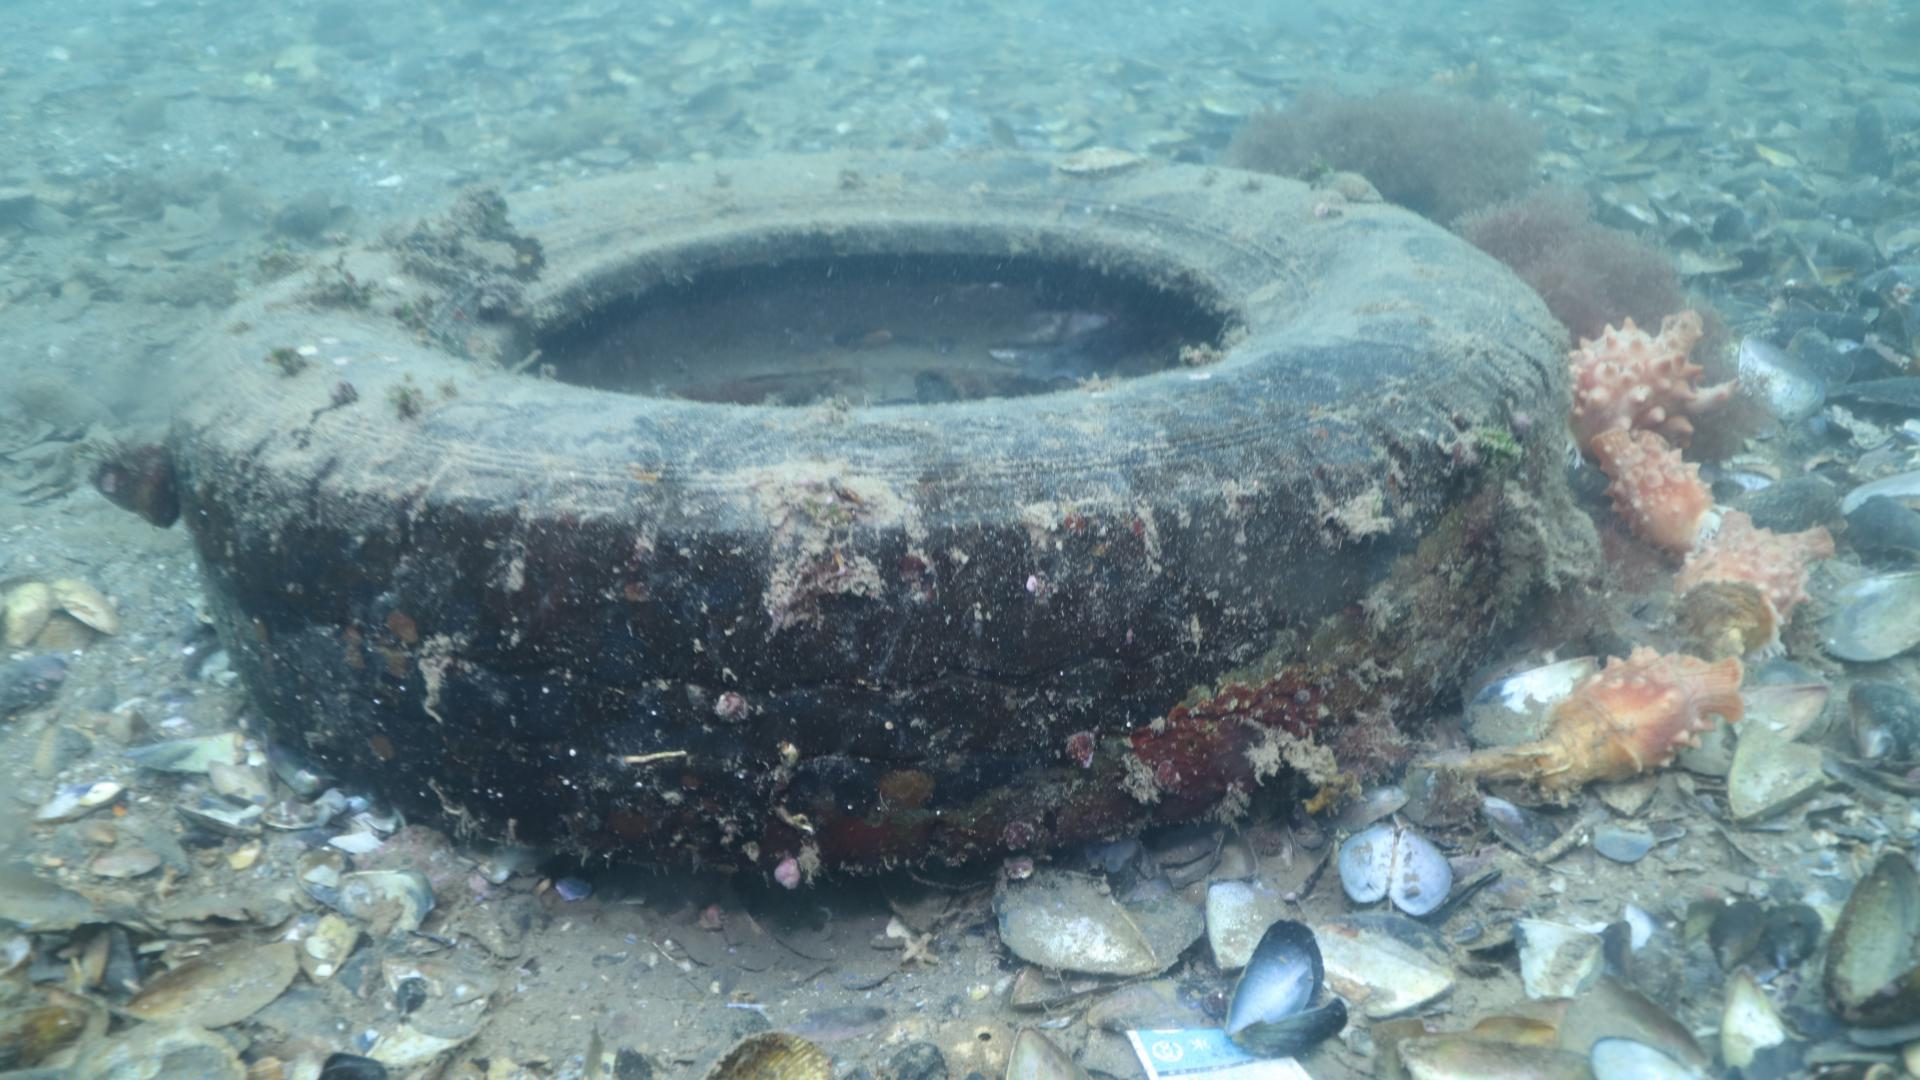tire: (165, 149, 1589, 909)
